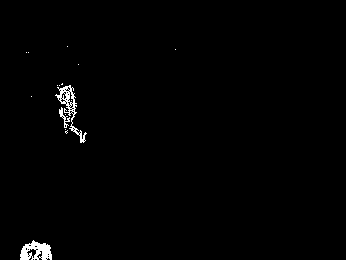person: (57, 83, 86, 142)
